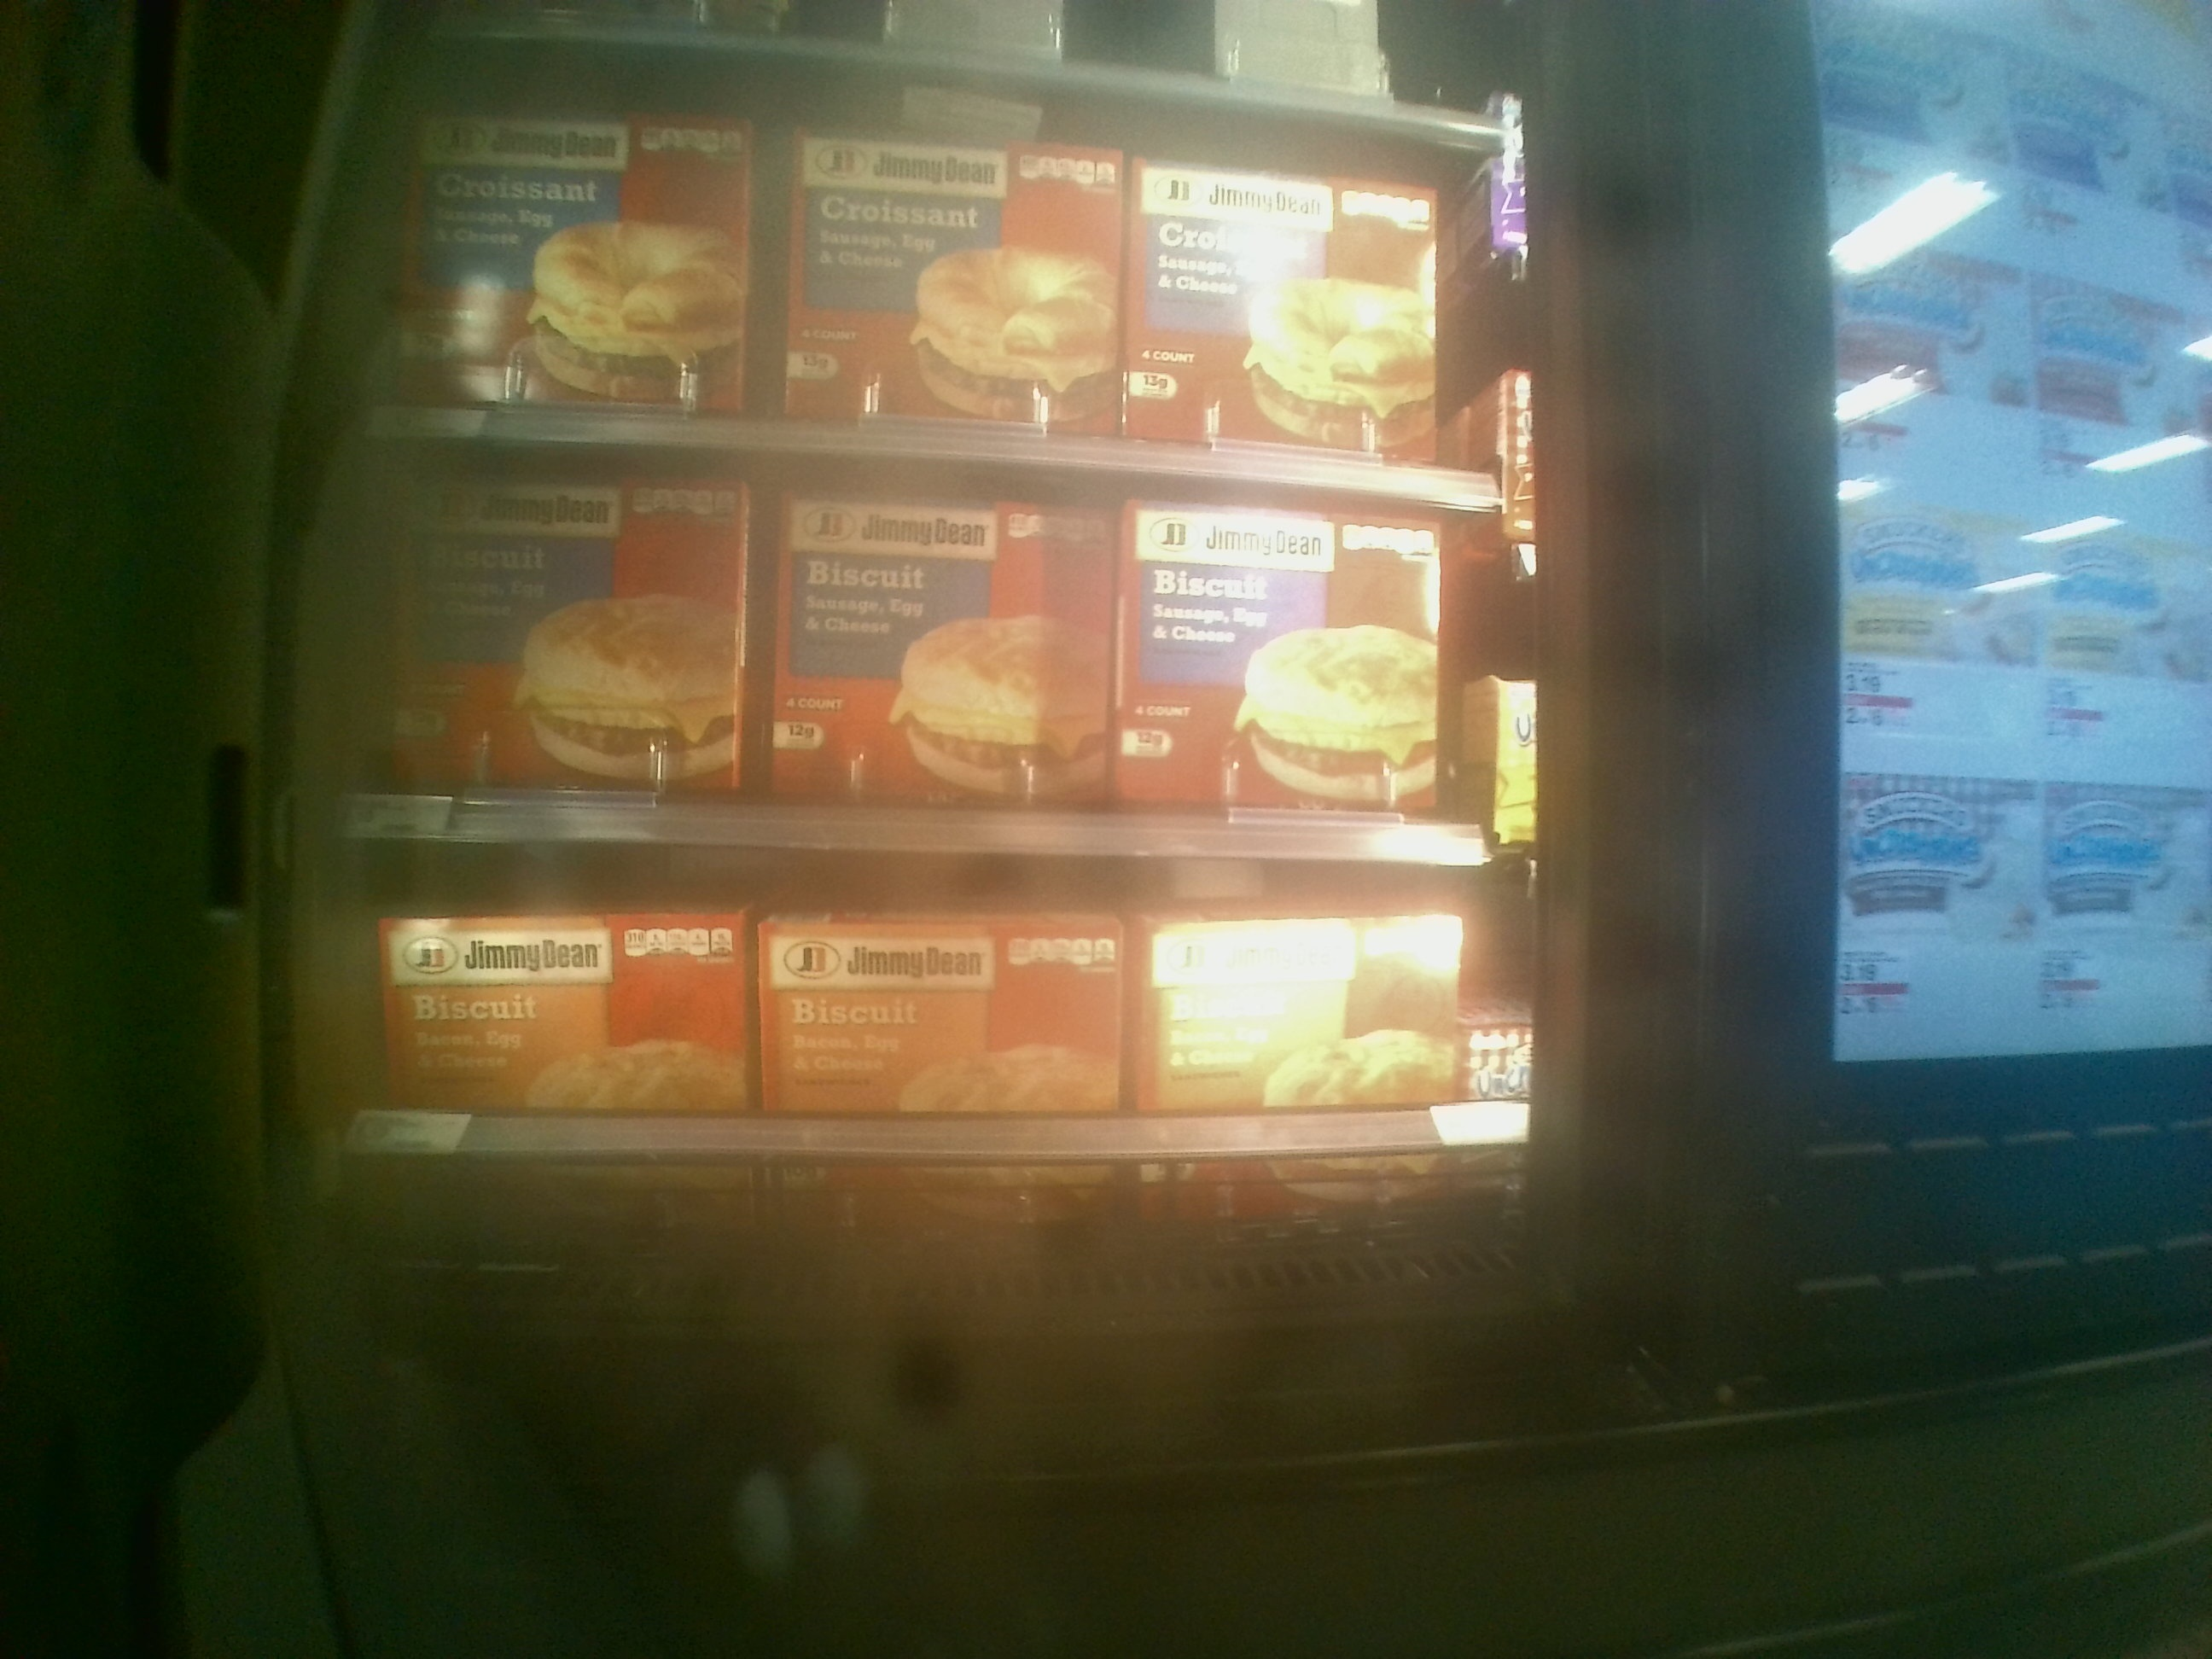shelf: (334, 446, 1514, 863), (348, 847, 1538, 1246)
